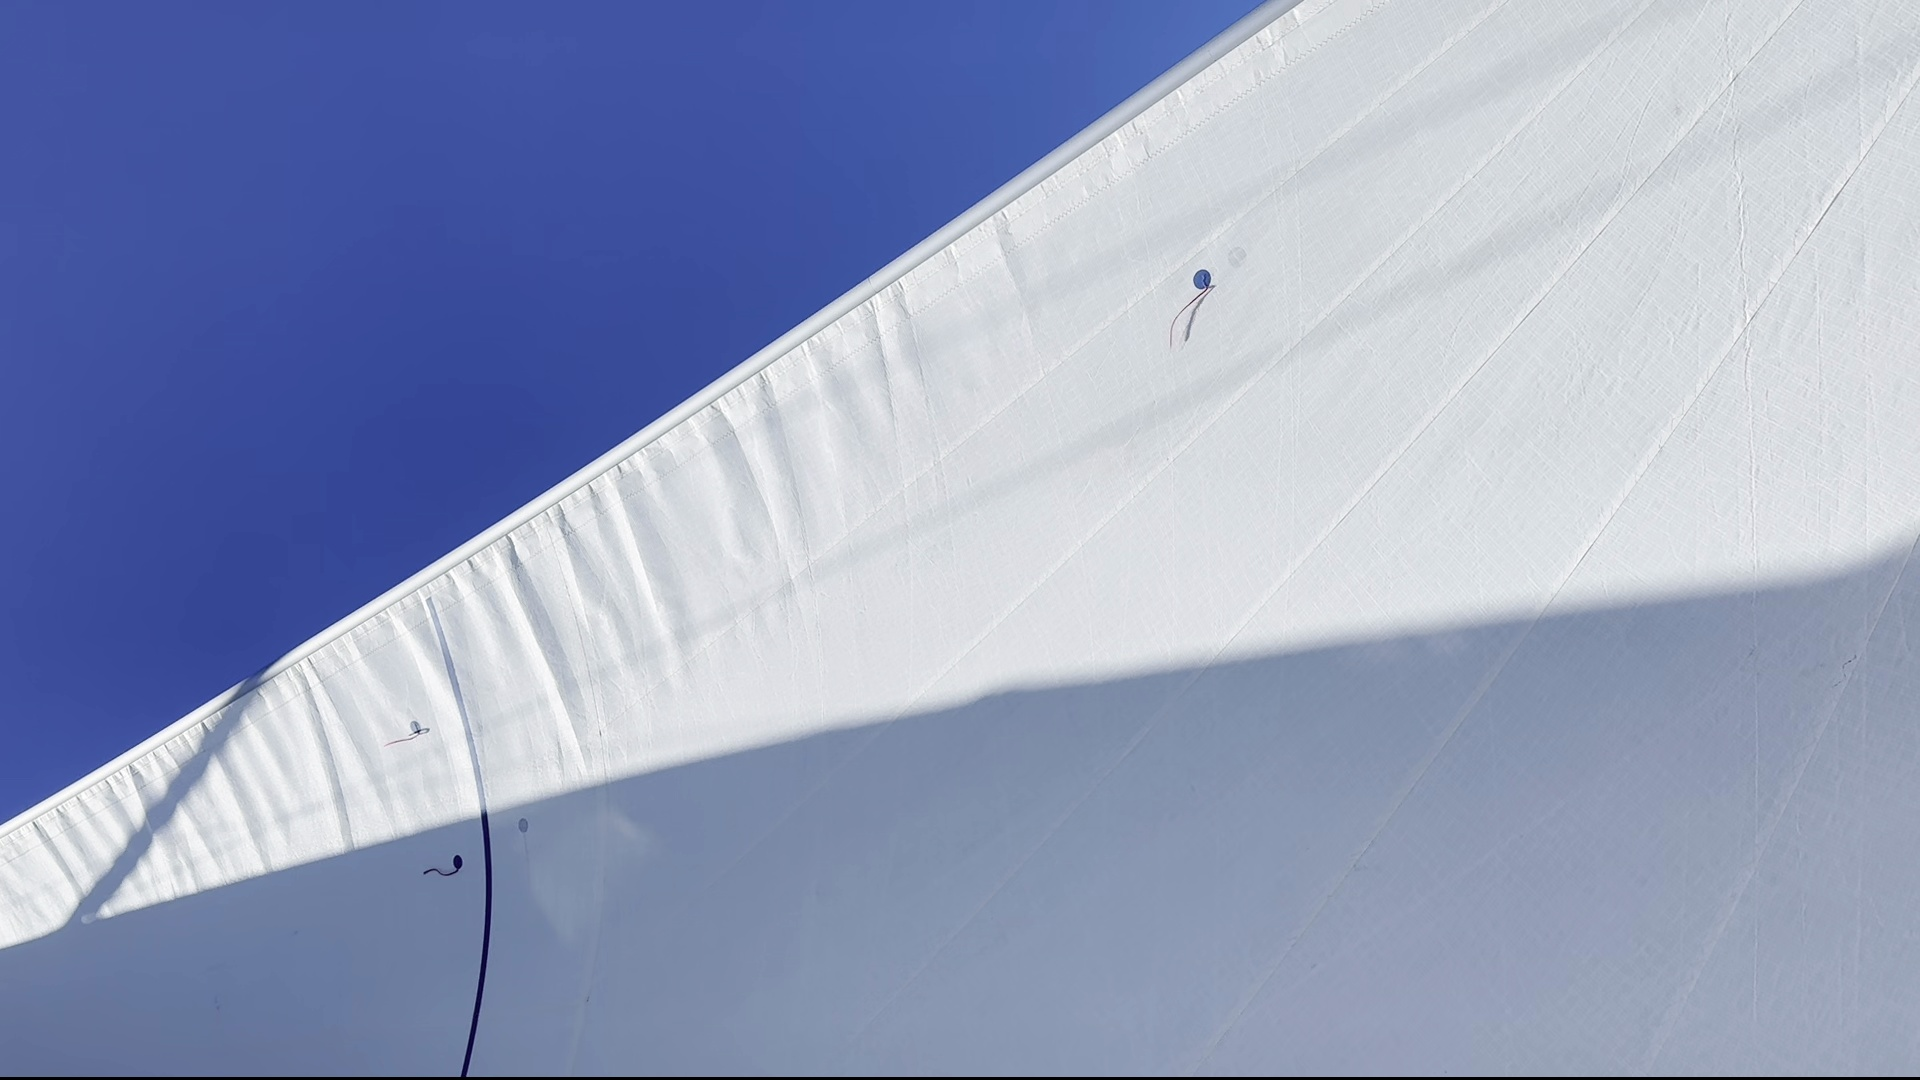pennon_detached: (1160, 252, 1211, 352), (378, 711, 432, 760), (418, 851, 470, 891)
